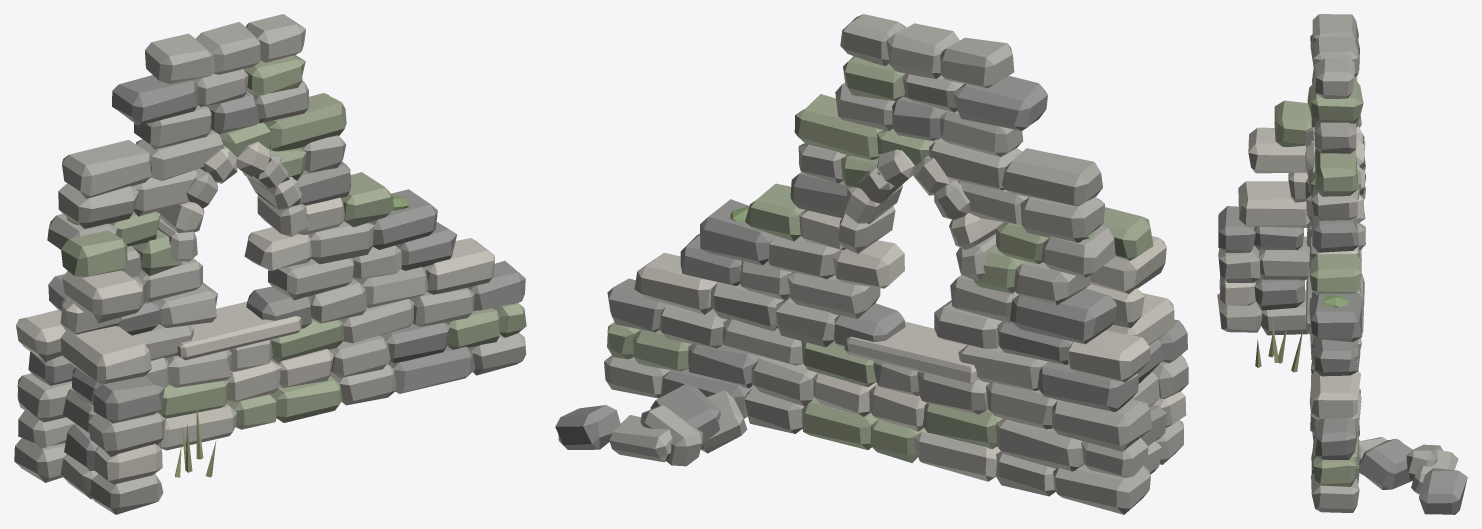
Rendered from Ruin_Wall_Window.fbx.
The picture shows the model from 3 angles, left to right: view 1: azimuth 30°, elevation 25°; view 2: azimuth 150°, elevation 25°; view 3: azimuth 270°, elevation 25°; orthographic projection. The views are drawn at different scales.
Parts seen in each view (by area): view 1: Ruin_Wall_Window; view 2: Ruin_Wall_Window; view 3: Ruin_Wall_Window.
Part boxes in pixels (left/top/right/bottom): Ruin_Wall_Window: left=14, top=14, right=526, bottom=514; Ruin_Wall_Window: left=555, top=14, right=1188, bottom=514; Ruin_Wall_Window: left=1217, top=14, right=1467, bottom=514.
Bounding box in the file's own units: 5.46 × 4.34 × 2.72.
